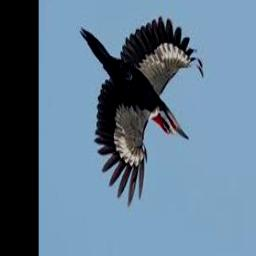Woodpecker: (80, 18, 204, 208)
